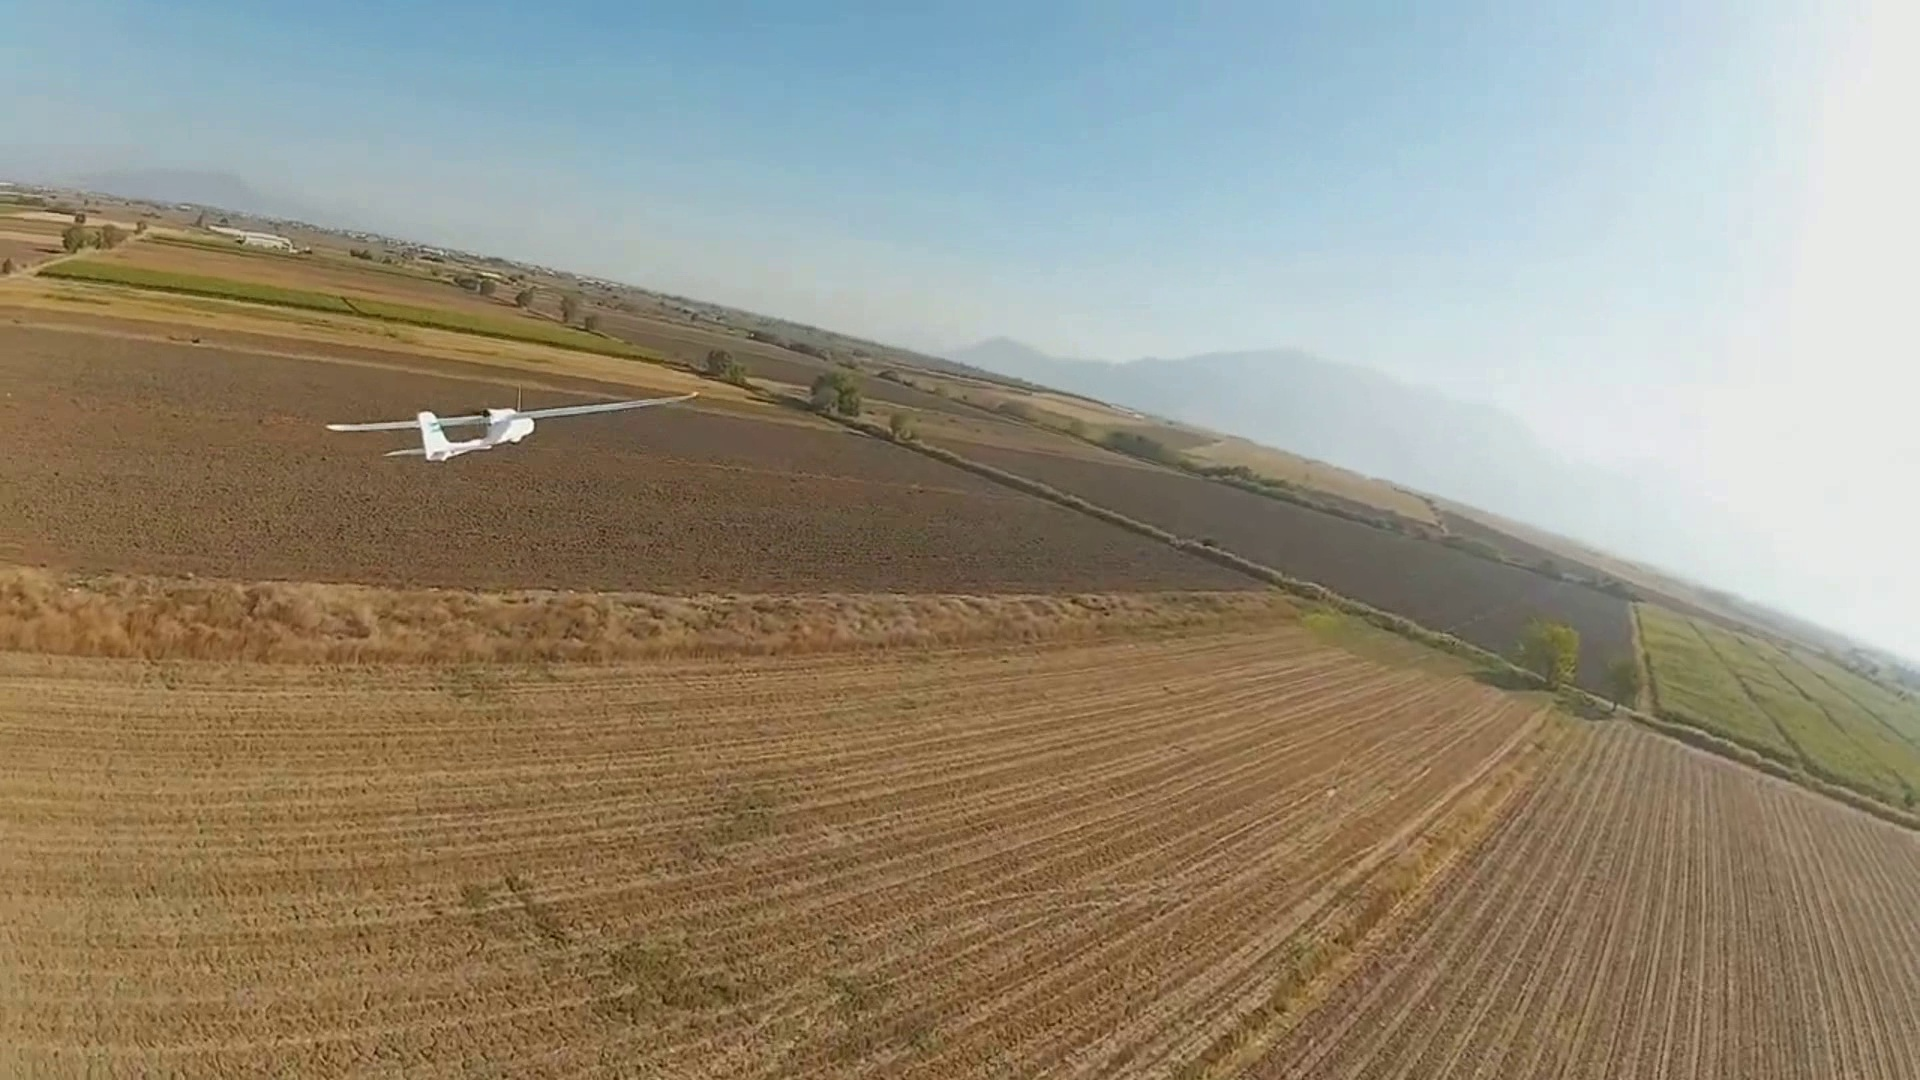airplane: (324, 405, 538, 464)
